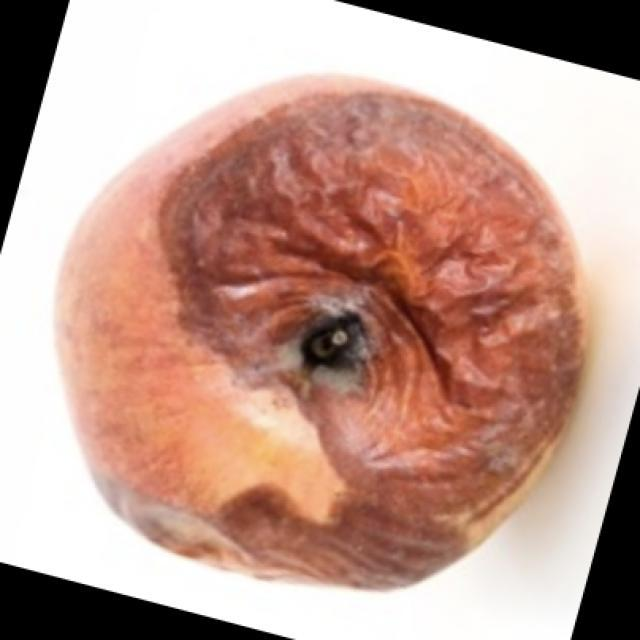Rotten: (66, 72, 566, 590)
